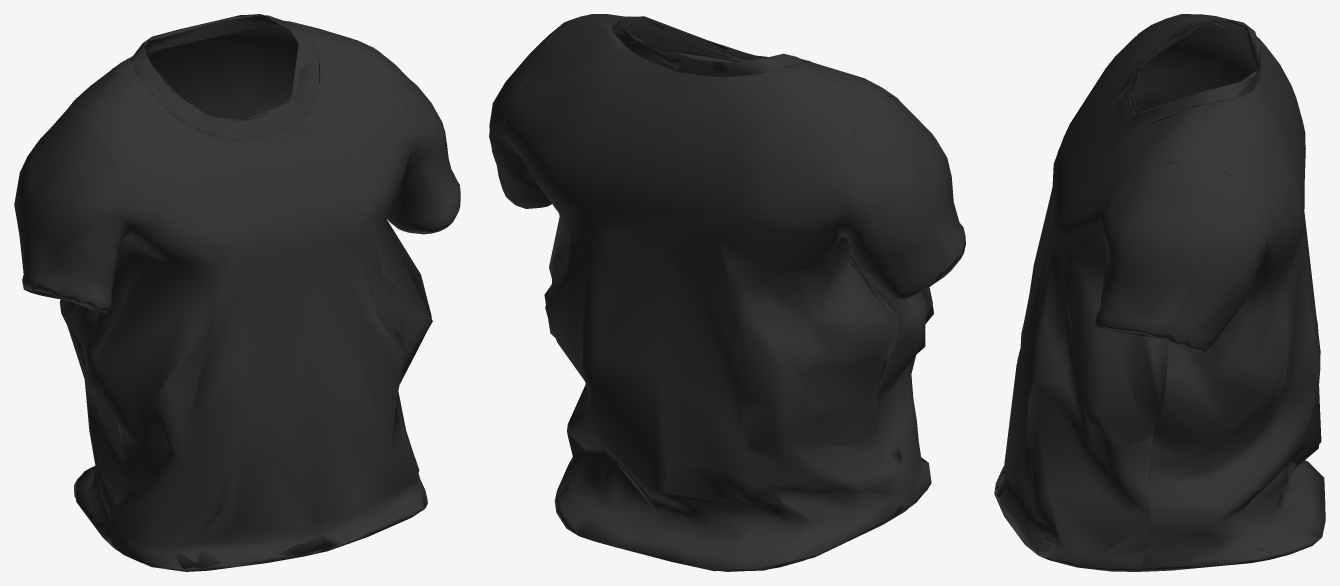
The model's file is shirt-fitted.glb.
3 renders of one model, left to right at view 1: azimuth 30°, elevation 25°; view 2: azimuth 150°, elevation 25°; view 3: azimuth 270°, elevation 25°, orthographic. The views are drawn at different scales.
Parts seen in each view (by area): view 1: Shirt; view 2: Shirt; view 3: Shirt.
Boxes of the visible parts, bbox=[...] form: Shirt: bbox=[14, 14, 460, 571]; Shirt: bbox=[489, 14, 965, 571]; Shirt: bbox=[994, 14, 1325, 571].
Bounding box in the file's own units: 637 × 647 × 424.
3 materials, 3 textured.
